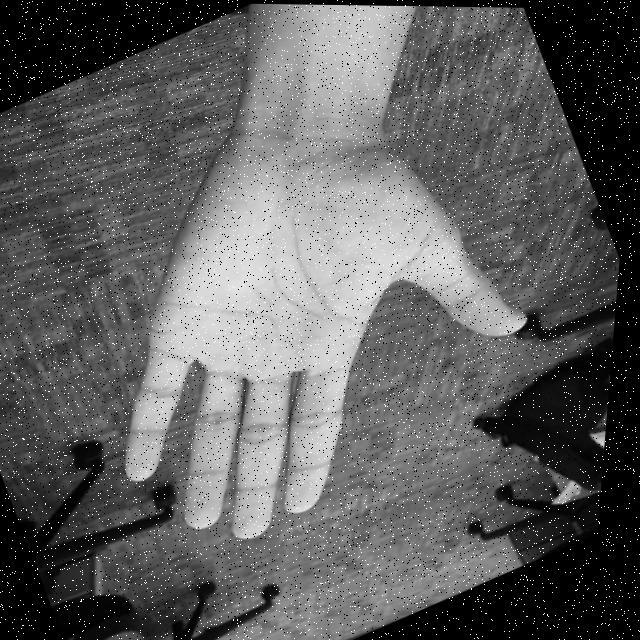no-gloves: (19, 69, 591, 584)
